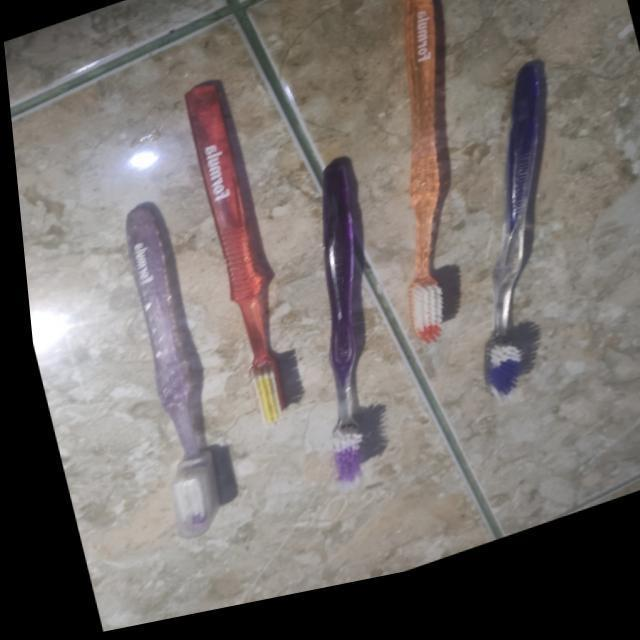toothbrush: (395, 44, 640, 448), (306, 0, 542, 384), (248, 143, 432, 513), (81, 182, 251, 566), (166, 60, 312, 458)
